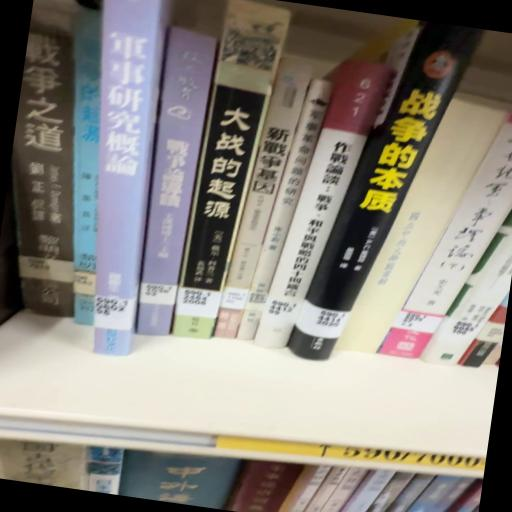backward: (336, 98, 506, 354)
book: (283, 14, 482, 378), (255, 55, 403, 369), (126, 34, 217, 344)
